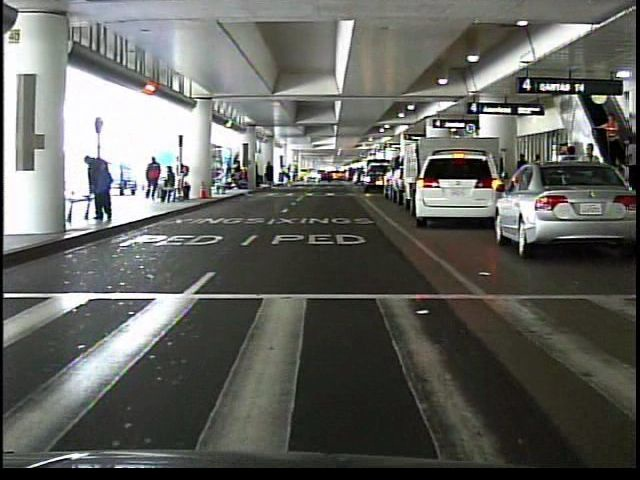person: (82, 150, 117, 226), (596, 111, 622, 164), (619, 135, 638, 191), (215, 166, 231, 201), (280, 162, 294, 192)
